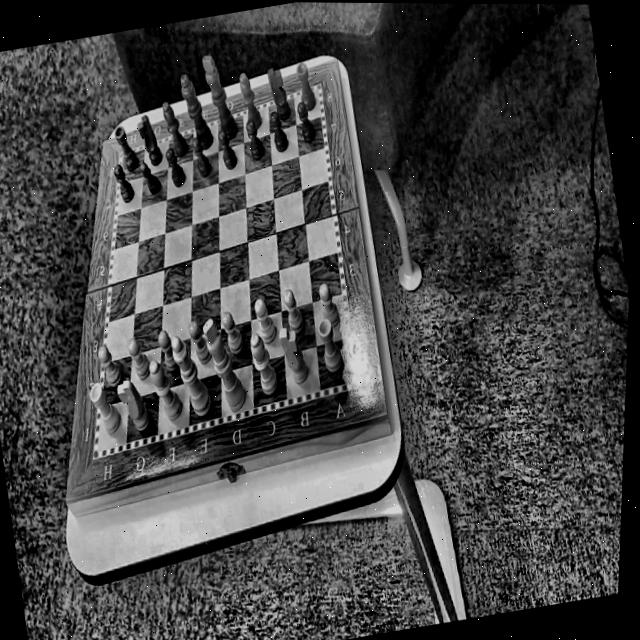chessboard: (95, 91, 351, 450)
